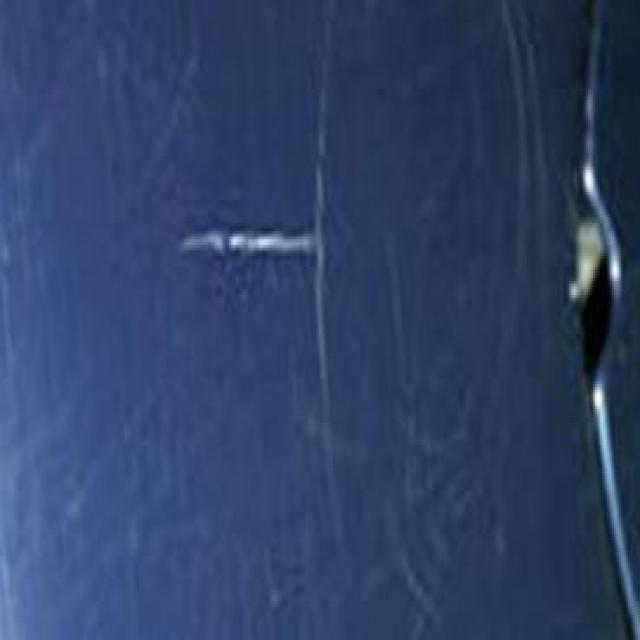scratch: (172, 207, 334, 277)
